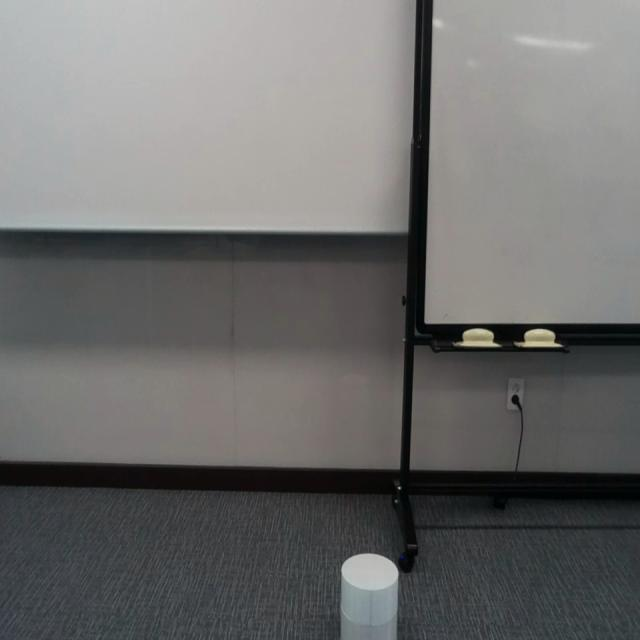cylinder: (340, 552, 399, 639)
